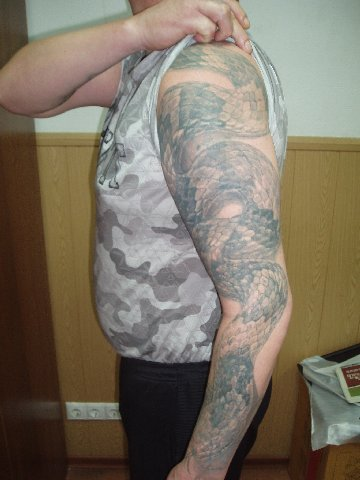tatu7_zmeya: (156, 32, 304, 470)
